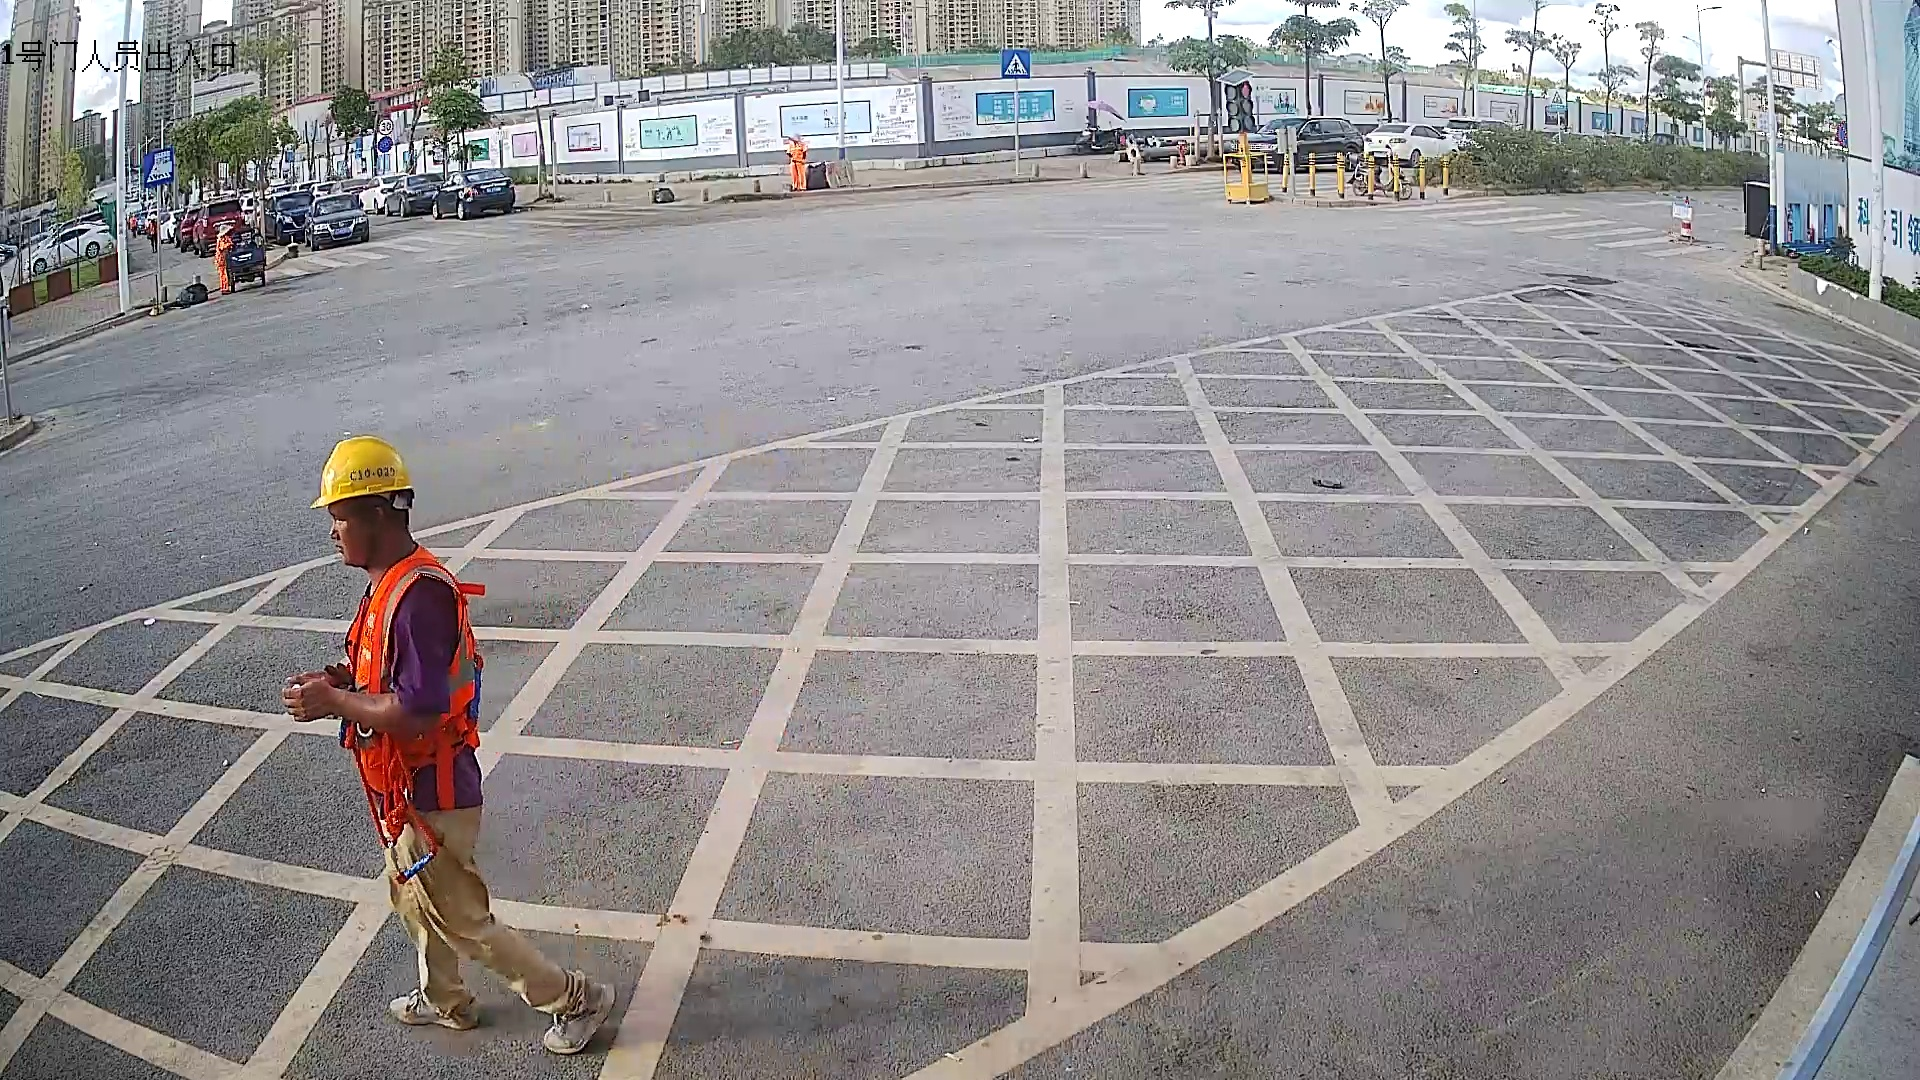person: (279, 428, 622, 1060)
reflective_vest: (334, 549, 488, 792)
safety_helmet: (310, 430, 416, 569)
